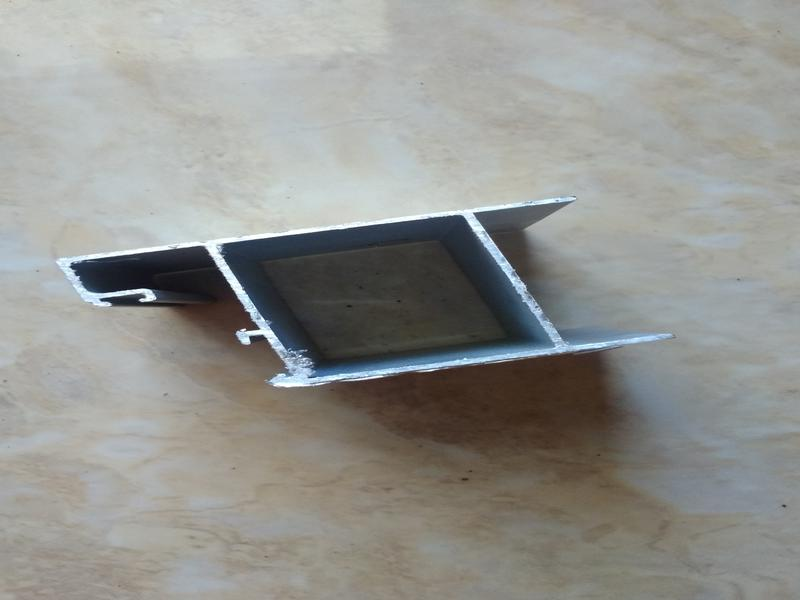Aluminium_2: (43, 184, 726, 388)
